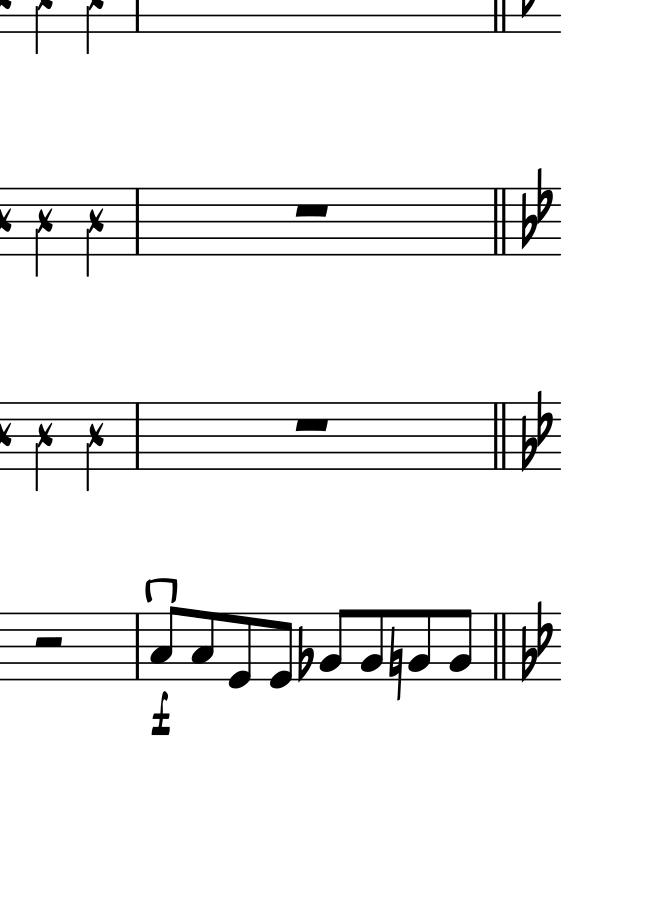8_0: (268, 610, 294, 692), (227, 612, 253, 691)
8_2: (318, 607, 353, 684), (405, 608, 433, 681), (357, 609, 384, 683), (449, 606, 473, 683)
8_3: (149, 603, 182, 680), (191, 610, 217, 682)
B_F: (518, 389, 554, 472), (521, 167, 555, 249), (520, 599, 554, 680)
Double_barline: (489, 189, 513, 255), (488, 612, 511, 680), (489, 401, 511, 469)
Flat: (295, 623, 314, 680)
Natural: (385, 623, 406, 703)
Rests1: (292, 198, 334, 221), (294, 412, 331, 433)
Rests2: (30, 634, 69, 651)
Single_barline: (128, 402, 145, 468), (128, 189, 145, 254), (131, 613, 143, 677), (128, 1, 145, 33)
f: (150, 691, 173, 737)
